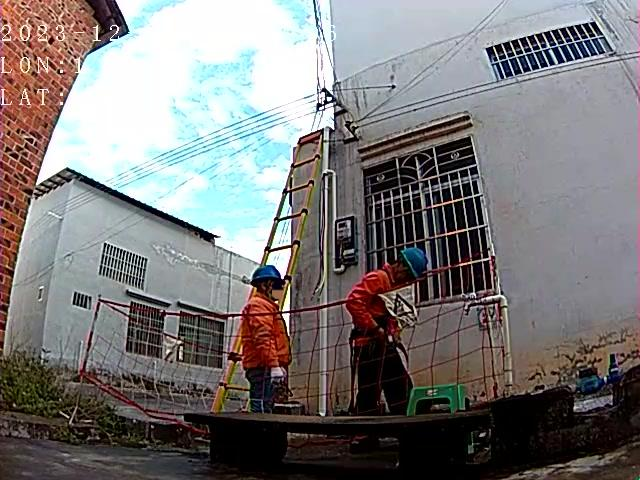halt: (253, 267, 288, 300), (402, 249, 431, 285)
